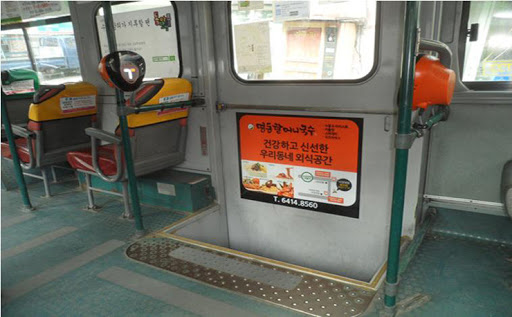exit: (201, 1, 422, 278)
